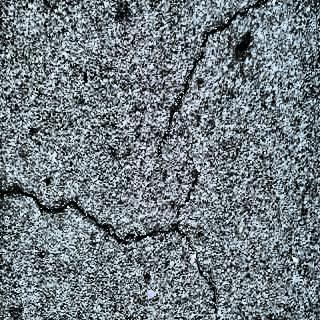crack: (3, 180, 239, 318), (151, 0, 275, 159)
